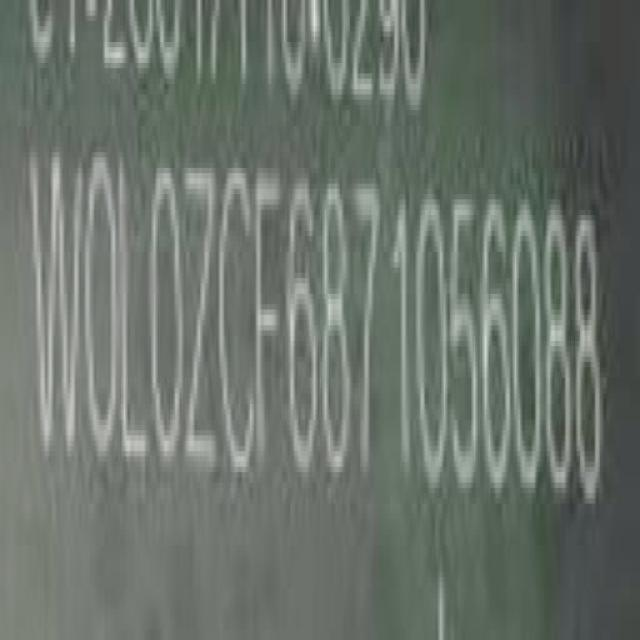0: (148, 157, 182, 480), (416, 188, 447, 498), (513, 206, 543, 503)
1: (390, 182, 412, 496)
5: (450, 194, 480, 496)
6: (288, 166, 320, 491), (479, 195, 511, 498)
7: (355, 175, 383, 492)
8: (320, 175, 350, 492), (546, 205, 573, 504), (576, 209, 602, 509)
C: (218, 164, 252, 490)
D: (88, 152, 122, 471)
F: (254, 165, 280, 480)
L: (120, 151, 148, 475)
W: (33, 149, 82, 476)
Z: (185, 156, 217, 487)
